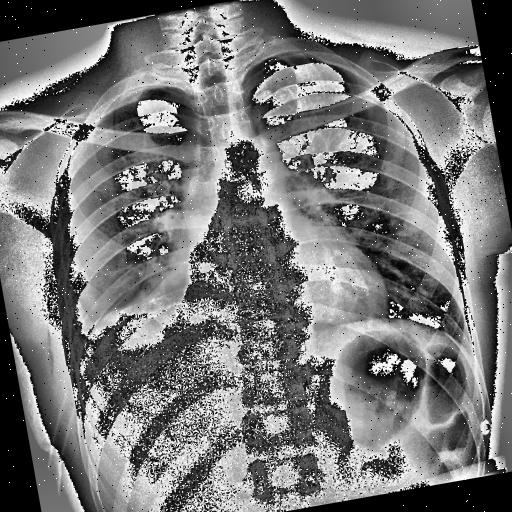1- Atelectasis: (62, 259, 208, 378)
10- Pleural effusion: (62, 259, 208, 378), (58, 287, 209, 391), (64, 312, 204, 400)
3- Cardiomegaly: (173, 234, 392, 358)
4- Consolidation: (65, 223, 239, 363), (74, 242, 218, 354)
7- Lung Opacity: (65, 223, 239, 363), (74, 242, 218, 354)
9- Other lesion: (40, 330, 61, 373)
